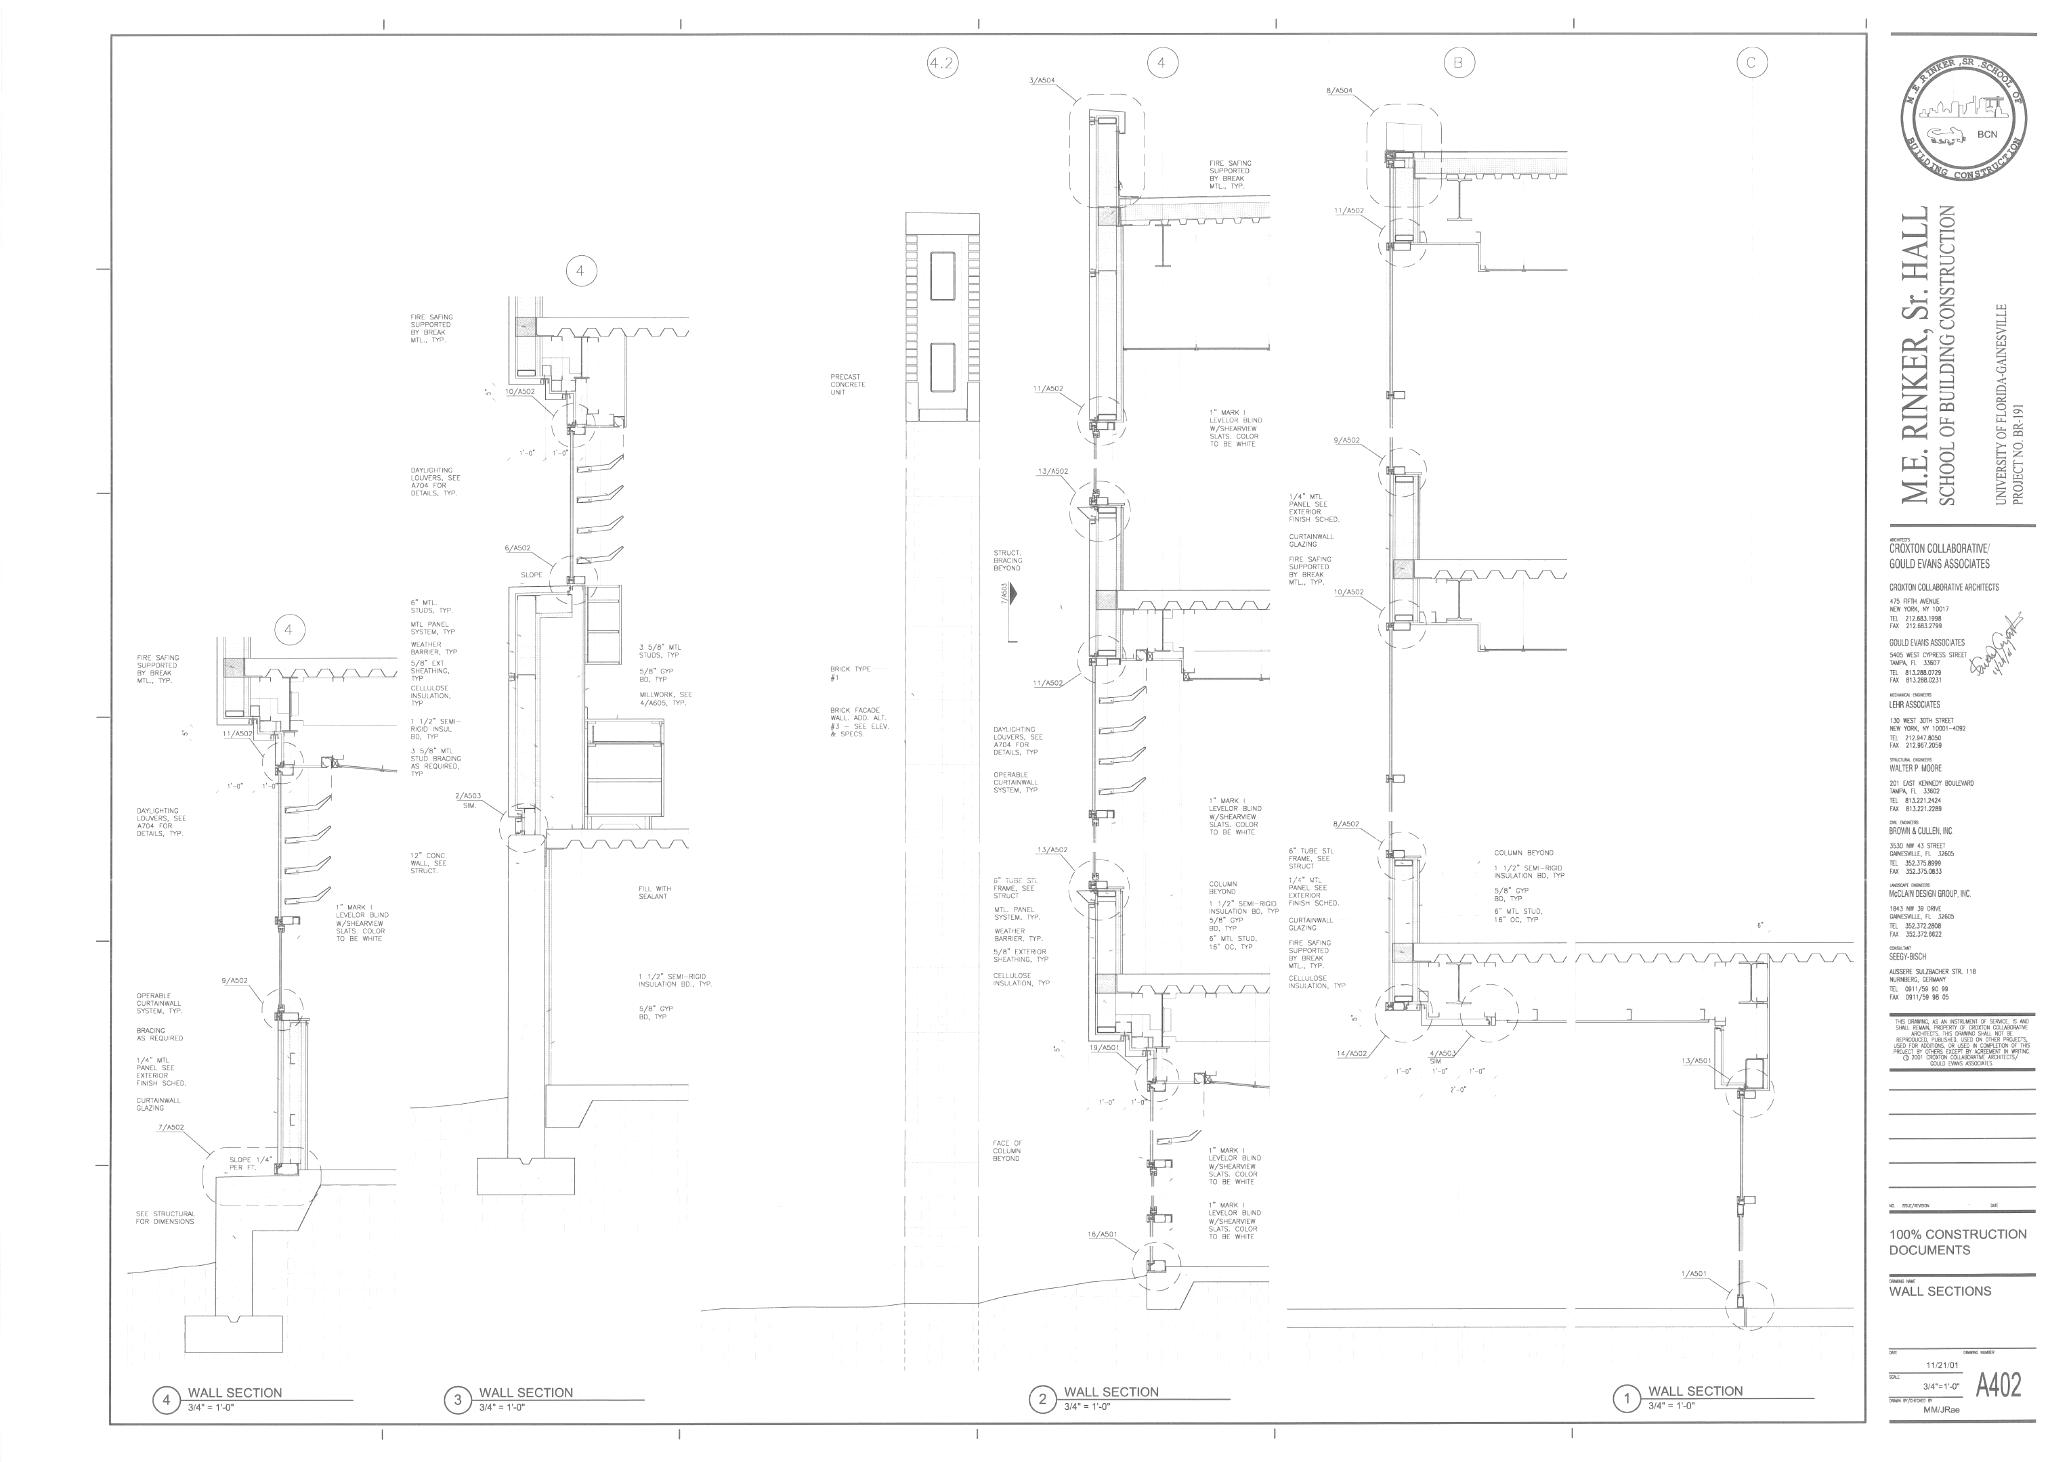detail: (153, 1117, 211, 1155), (448, 785, 505, 817), (1332, 430, 1387, 460), (502, 383, 557, 413), (1331, 815, 1383, 846), (217, 972, 265, 1005), (1680, 1052, 1731, 1082), (1088, 1039, 1137, 1070), (1679, 1266, 1731, 1295), (1029, 381, 1084, 408), (1026, 73, 1077, 102), (220, 722, 263, 755), (1323, 83, 1374, 110), (1087, 1226, 1136, 1254), (1334, 1034, 1386, 1060), (500, 540, 552, 566), (1427, 1033, 1473, 1062), (1332, 584, 1381, 611), (1332, 201, 1379, 229), (1033, 463, 1079, 489), (1037, 841, 1076, 868), (1031, 675, 1082, 689)
elevation: (999, 575, 1022, 647)
title: (1023, 1381, 1235, 1419), (443, 1381, 646, 1418), (1611, 1381, 1819, 1417), (151, 1382, 356, 1418)
